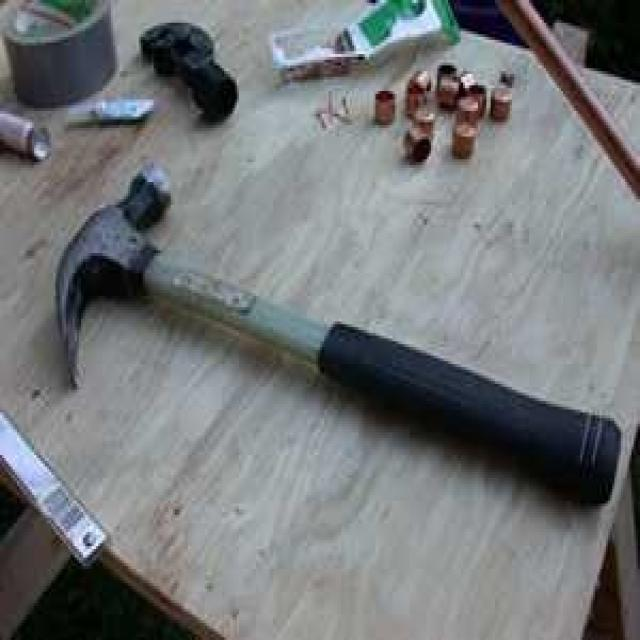hammer: (56, 167, 622, 506)
